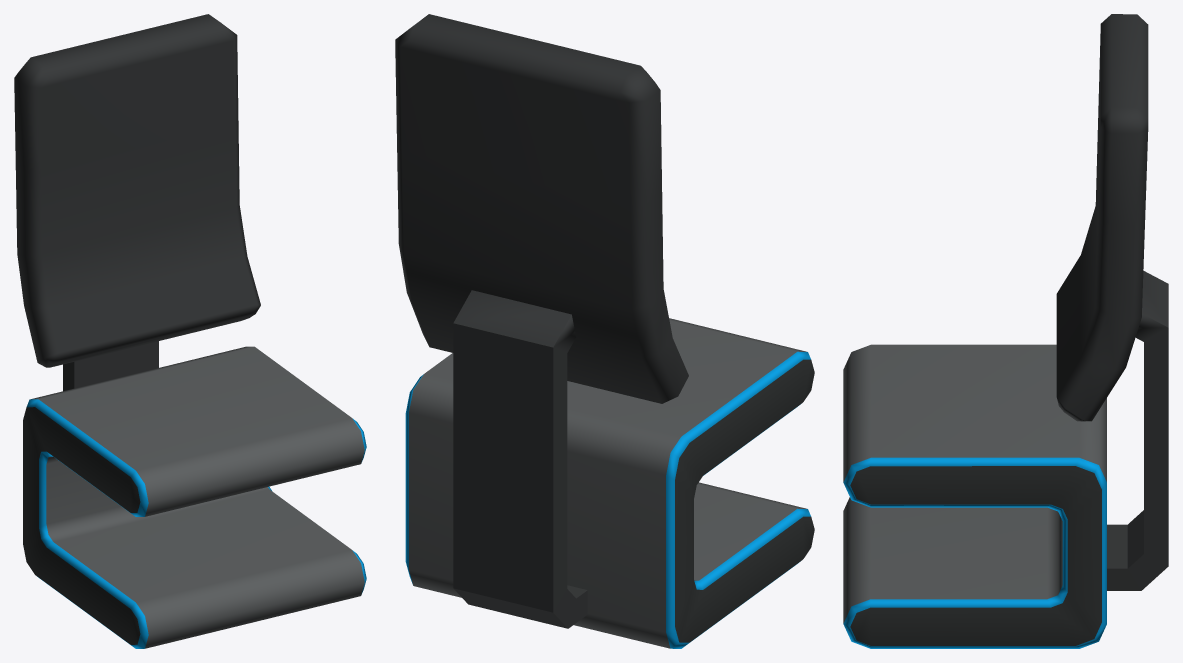
File: Chair_005.fbx
3 views of the same model, side by side, from view 1: azimuth 30°, elevation 25°; view 2: azimuth 150°, elevation 25°; view 3: azimuth 270°, elevation 25° (orthographic). The views are drawn at different scales.
Parts seen in each view (by area): view 1: Chair_005; view 2: Chair_005; view 3: Chair_005.
Part boxes in pixels (left/top/right/bottom): Chair_005: left=14, top=14, right=366, bottom=648; Chair_005: left=395, top=14, right=814, bottom=648; Chair_005: left=843, top=14, right=1168, bottom=648.
Size of the model in its own units: 58.88 by 68.35 by 123.
